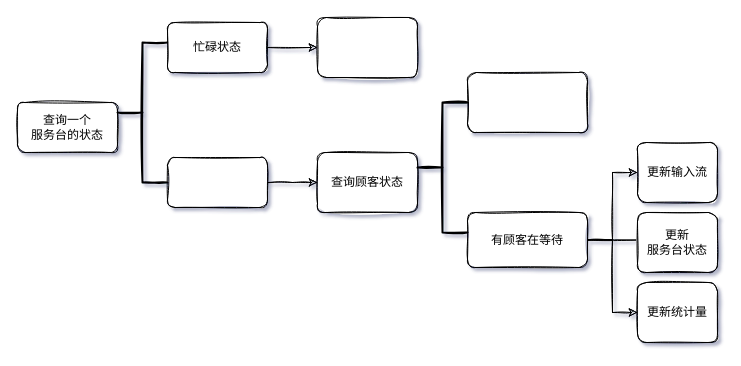
Some shapes in this 741 by 366 pixel diagram are drawn without their labels. Each missing label, with the centre of its shape:
"无人在等待 服务台闲置" belongs at [527,102].
"空闲状态" belongs at [217,182].
"继续服务 更新参数" belongs at [367,47].
